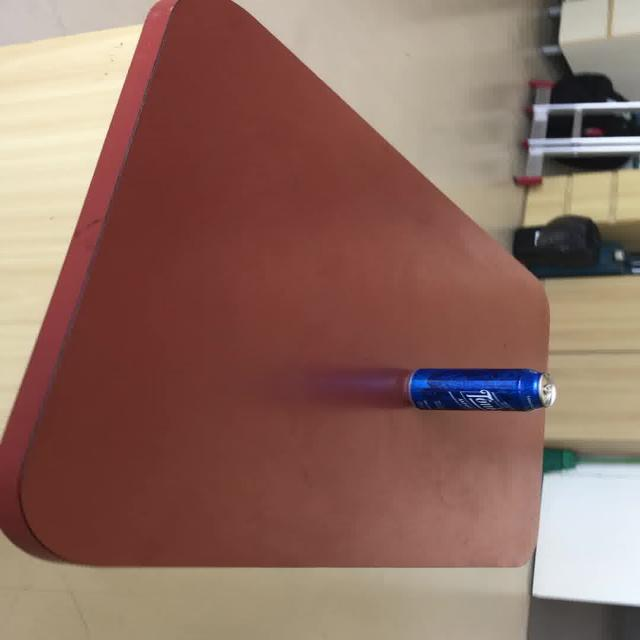tonic: (302, 366, 556, 412)
